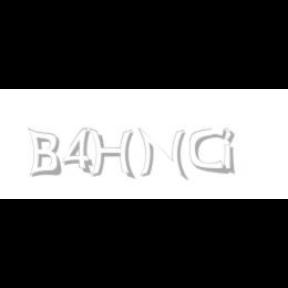4: (62, 128, 94, 174)
B: (27, 128, 61, 178)
C: (190, 128, 226, 174)
H: (89, 128, 135, 180)
N: (138, 128, 186, 180)
i: (222, 128, 238, 176)
